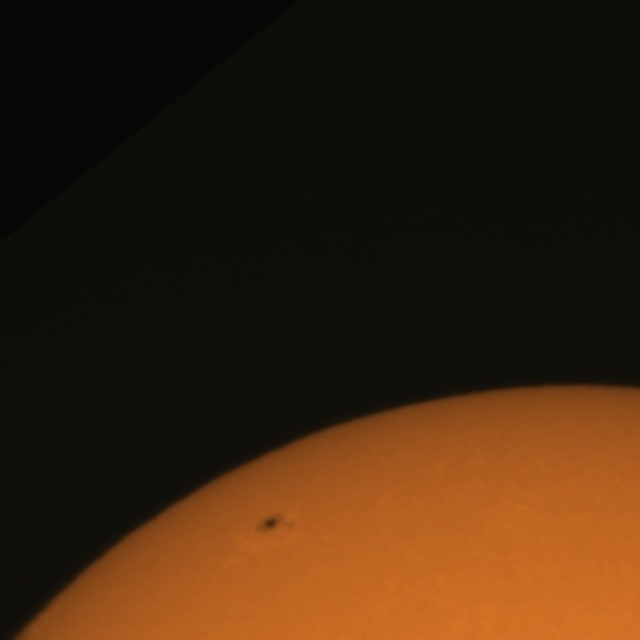sunspot: (254, 513, 297, 536)
